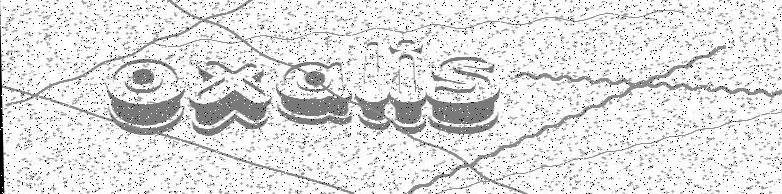a: (274, 60, 352, 126)
i: (388, 39, 426, 135)
l: (353, 41, 391, 131)
o: (104, 58, 188, 137)
s: (426, 55, 501, 135)
x: (188, 61, 273, 137)
